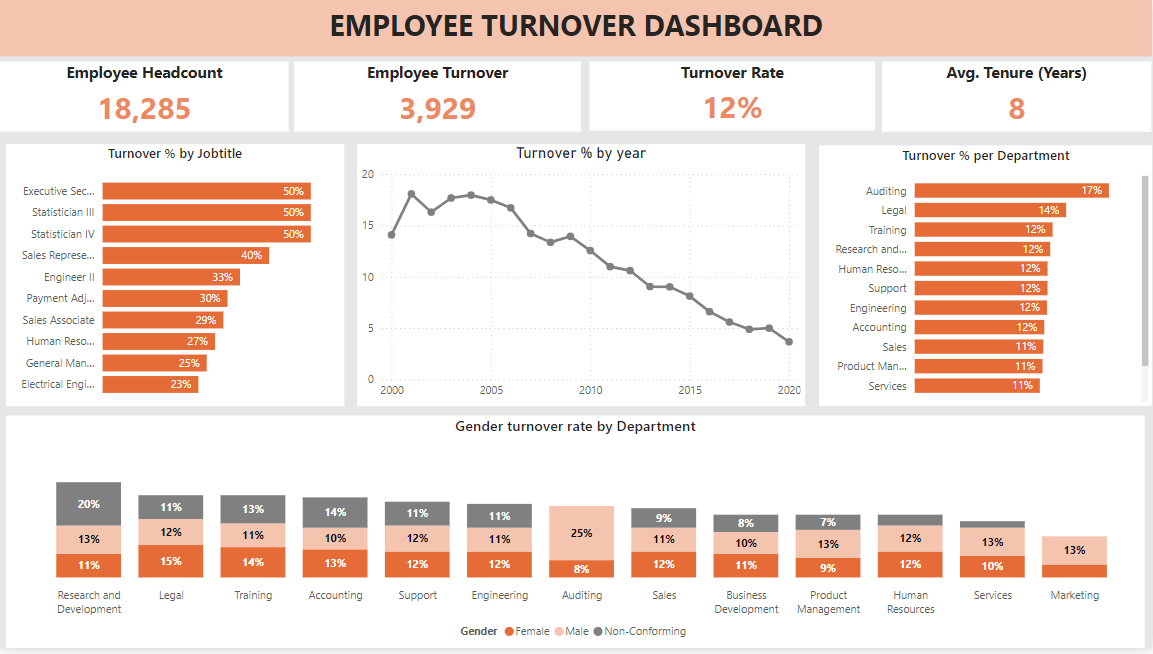

Layout of this report page (visuals, bound fields, positions):
{"tool":"powerbi","page":{"name":"Employee Turnover","canvas":[1280,720],"ordinal":1},"visuals":[{"type":"card","title":"Avg. Tenure (Years)","fields":{"Values":["Sum(avg_length_employment.avg_length_employment)"]},"box":[980.8,68.3,299.3,78.1],"z":0},{"type":"card","title":"Turnover Rate","fields":{"Values":["Avg(turnover_rate.termination_rate)"]},"box":[655.5,68.3,317.2,76.4],"z":1000},{"type":"card","title":"Employee Turnover","fields":{"Values":["Sum(Terminated Employees.count(*))"]},"box":[326.9,68.3,318.8,78.1],"z":2000},{"type":"textbox","box":[0,0,1280,62.8],"z":3000},{"type":"card","title":"Employee Headcount","fields":{"Values":["Sum(No  of Existing Employees.count(*))"]},"box":[0,68.3,320.4,78.1],"z":4000},{"type":"clusteredBarChart","title":"Turnover % per Department","fields":{"Category":["turnover_rate.department"],"Y":["Sum(turnover_rate.termination_rate)"]},"box":[909.2,161,370.9,289.5],"z":5000},{"type":"clusteredBarChart","title":"Turnover % by Jobtitle","fields":{"Category":["jobtitle turnover.jobtitle"],"Y":["Sum(jobtitle turnover.termination_rate)"]},"box":[6.5,159.4,375.7,291.2],"z":6000},{"type":"columnChart","title":"Gender turnover rate by Department","fields":{"Category":["Gender turnover rate  by department.department"],"Series":["Gender turnover rate  by department.gender"],"Y":["Sum(Gender turnover rate  by department.termination_rate)"]},"box":[6.5,461.9,1265.5,258.6],"z":7000},{"type":"lineChart","title":" Turnover % by year","fields":{"Category":["turnover by year.year"],"Y":["Sum(turnover by year.turnover_rate_percent)"]},"box":[396.9,159.4,497.7,291.2],"z":8000}]}

Visuals, with their boxes in screenshot pixels (x1, y1, x2, y2), scaled from the page's 1280x720 canvas onto the 1153x654 screenshot:
"Avg. Tenure (Years)" card: (883,62,1152,133)
"Turnover Rate" card: (590,62,876,131)
"Employee Turnover" card: (294,62,582,133)
textbox: (0,0,1152,57)
"Employee Headcount" card: (0,62,289,133)
"Turnover % per Department" clusteredBarChart: (819,146,1152,409)
"Turnover % by Jobtitle" clusteredBarChart: (6,145,344,409)
"Gender turnover rate by Department" columnChart: (6,420,1146,653)
" Turnover % by year" lineChart: (358,145,806,409)
